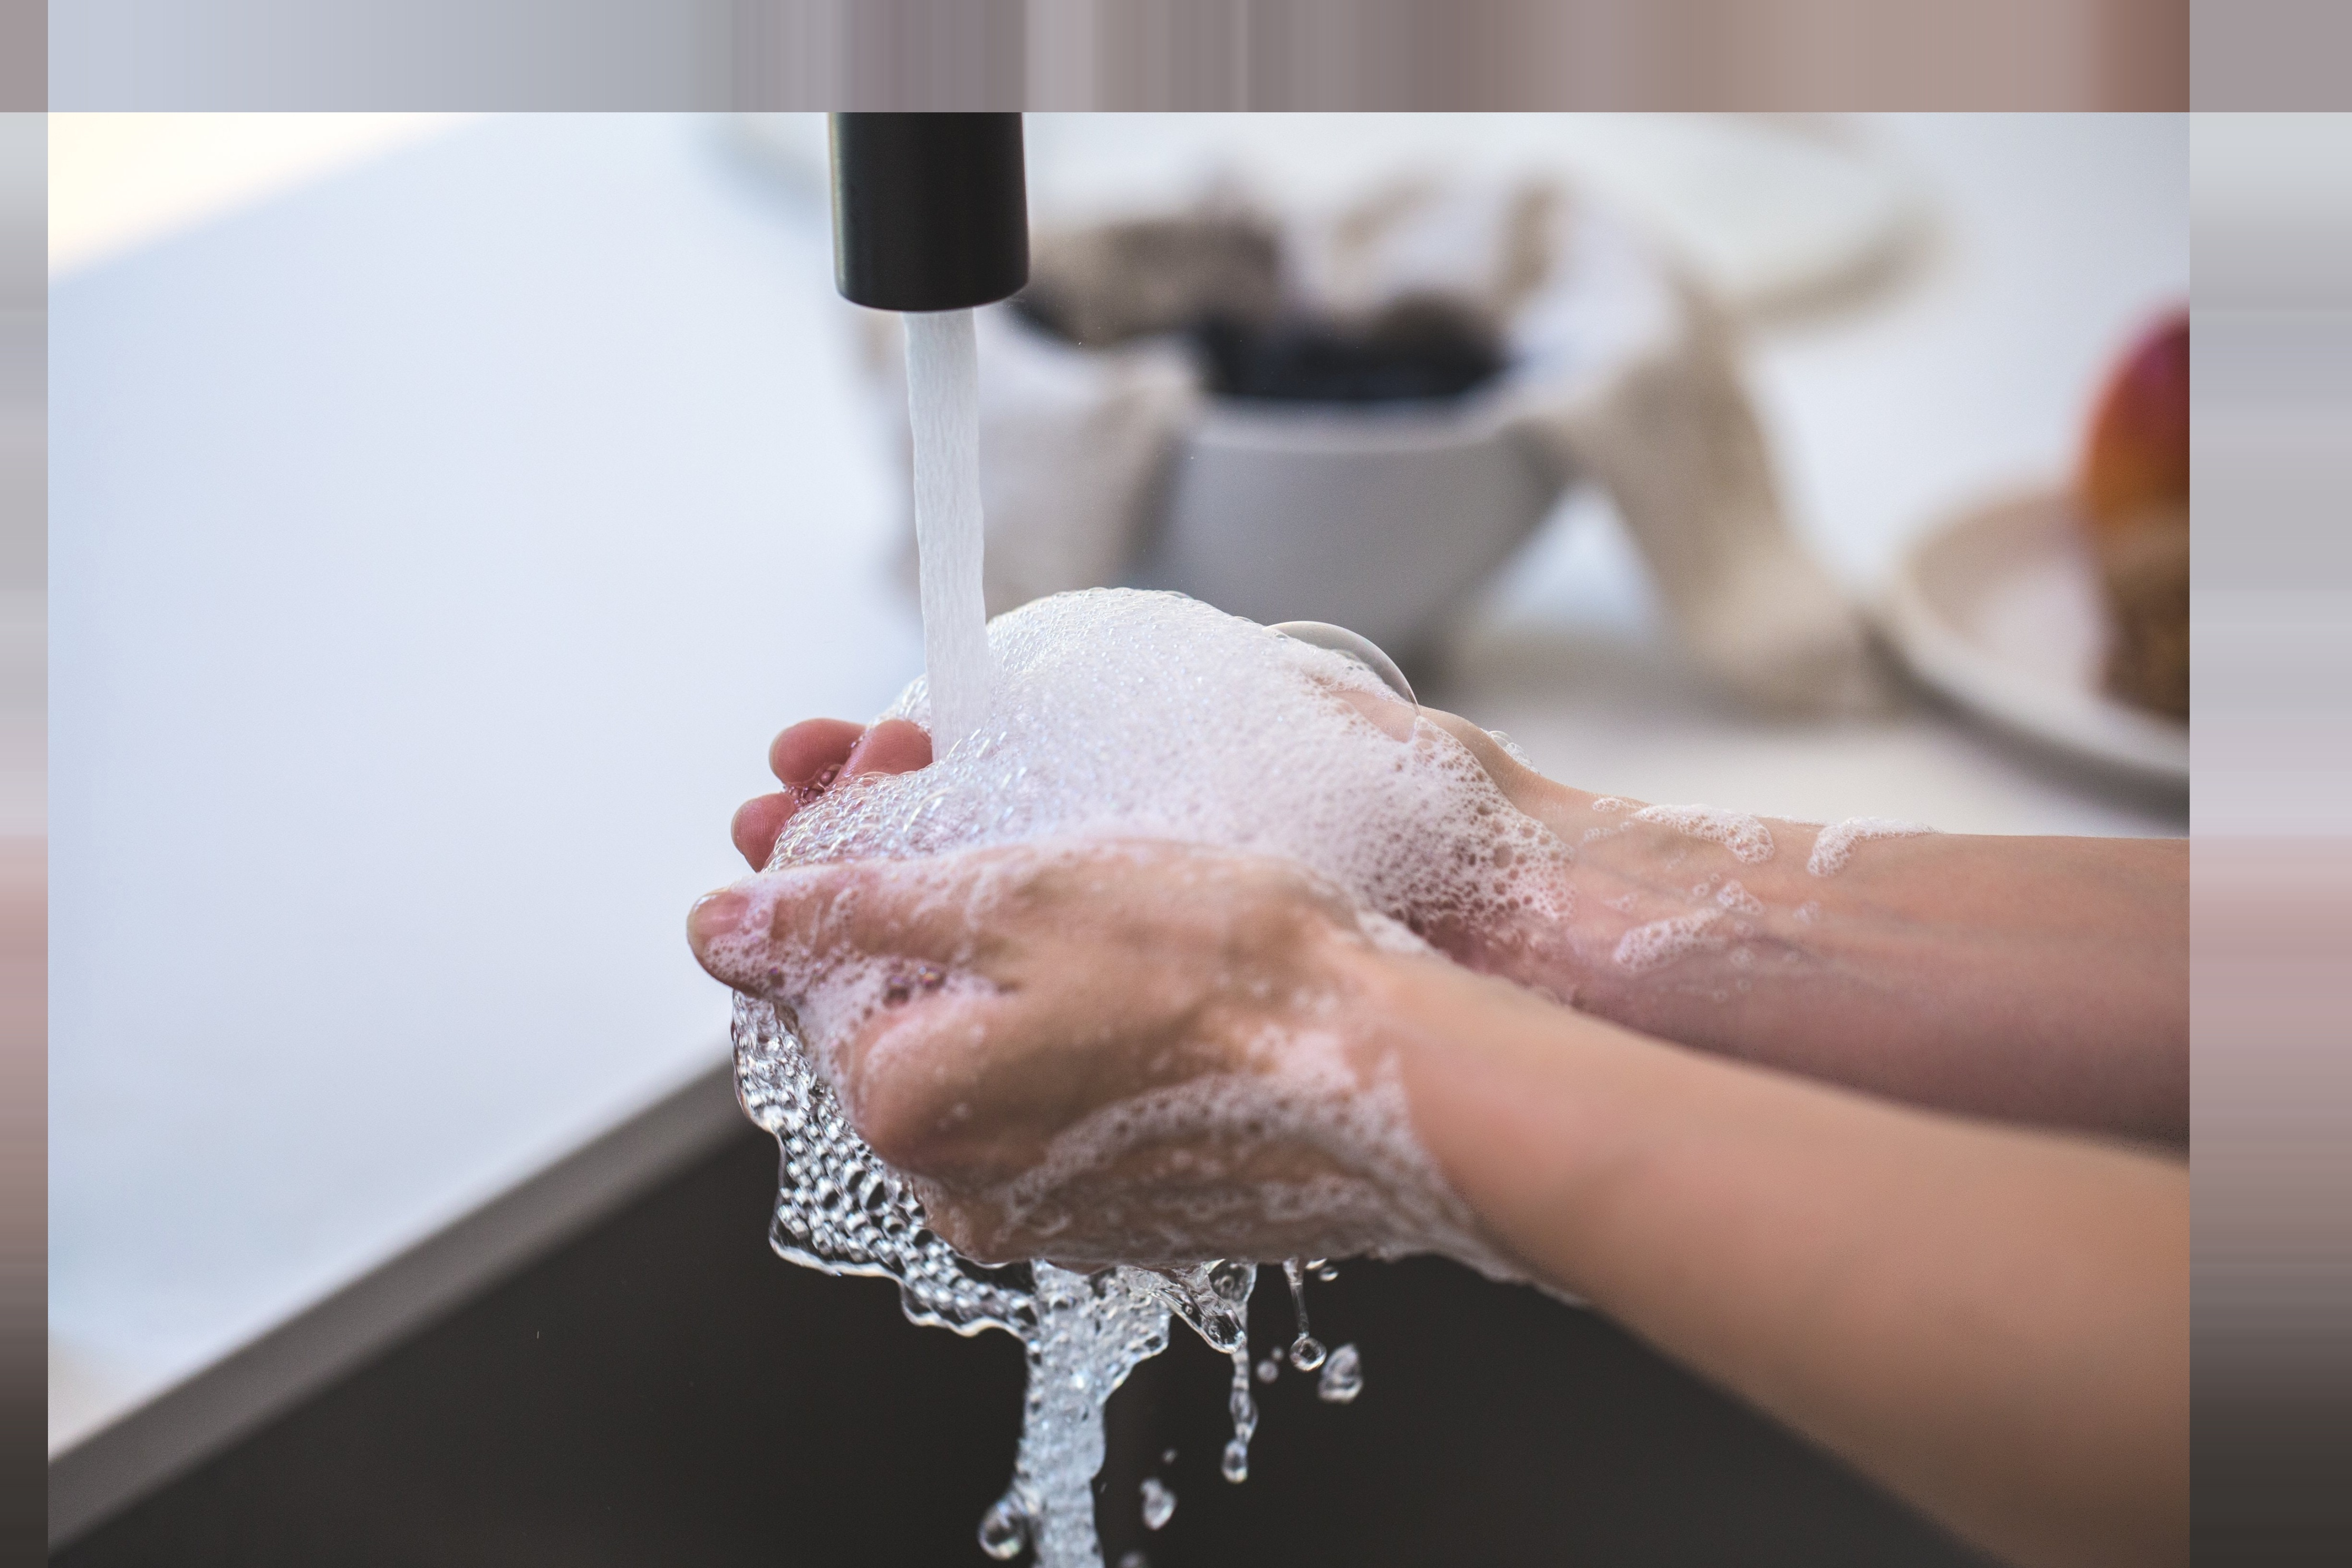washing hand: (390, 142, 1694, 1351)
